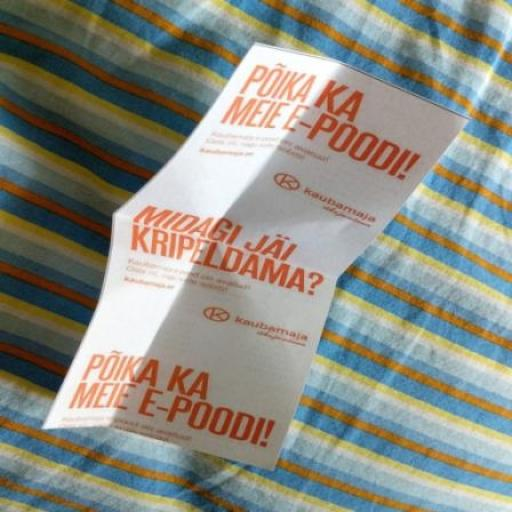paper: (8, 4, 488, 476)
